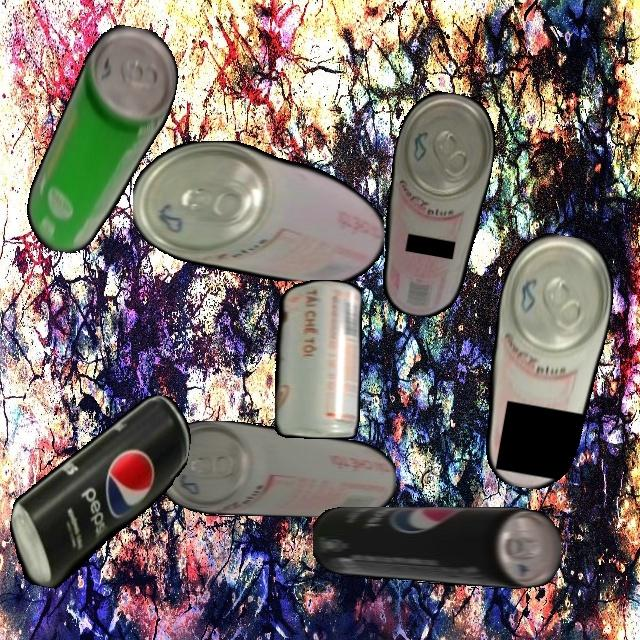debris: (1, 374, 197, 607), (468, 227, 622, 497), (21, 15, 185, 266), (133, 140, 384, 281), (367, 86, 503, 324), (158, 420, 396, 517), (312, 507, 561, 589), (274, 280, 362, 439)
